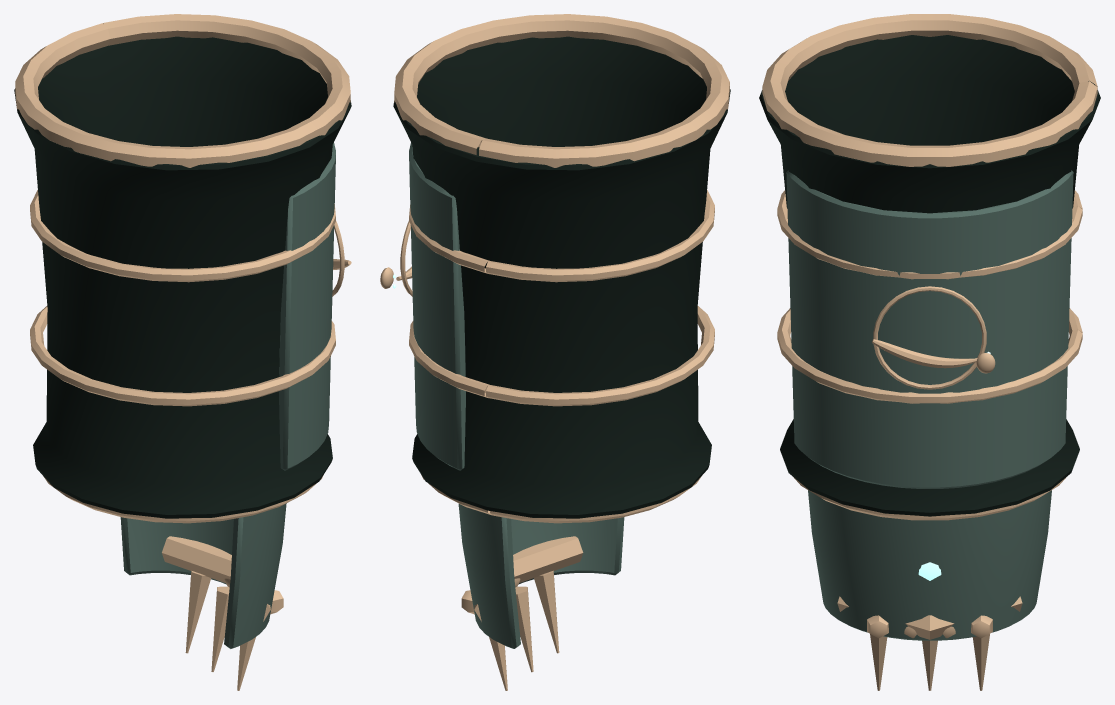
Rendered from asc_ouroboros_fang_gloves.glb.
3 views of the same model, side by side, from view 1: azimuth 30°, elevation 25°; view 2: azimuth 150°, elevation 25°; view 3: azimuth 270°, elevation 25° (orthographic).
Visible parts, largest first — view 1: asc_ouroboros_fang_gloves, AT_hand_L; view 2: asc_ouroboros_fang_gloves, AT_hand_L; view 3: asc_ouroboros_fang_gloves, AT_hand_L.
Boxes of the visible parts, x1,y1,x2,y2 form: asc_ouroboros_fang_gloves: [14, 14, 351, 523]; AT_hand_L: [120, 503, 286, 690]; asc_ouroboros_fang_gloves: [380, 14, 730, 523]; AT_hand_L: [458, 504, 624, 690]; asc_ouroboros_fang_gloves: [759, 14, 1100, 520]; AT_hand_L: [808, 490, 1051, 690].
Size of the model in its own units: 0.2009 by 0.385 by 0.2004.
